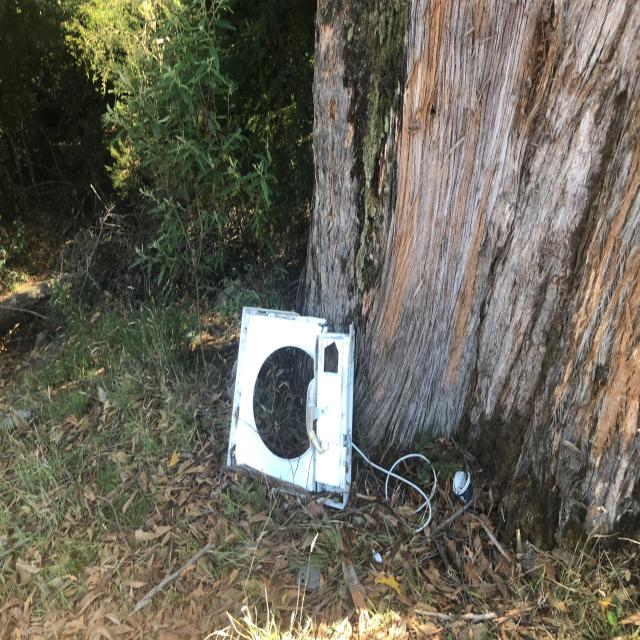litter: (213, 291, 385, 521), (449, 466, 472, 497)
